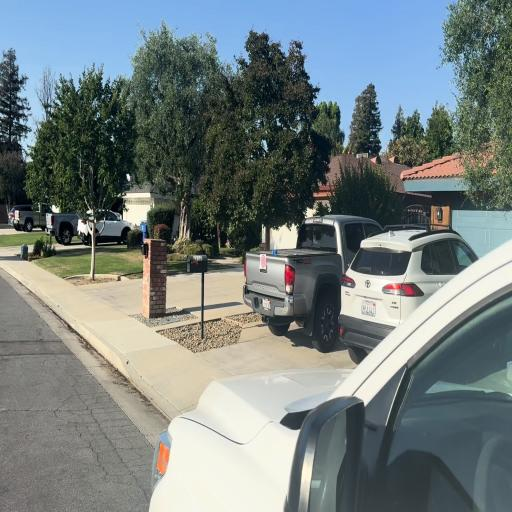bullseye: (260, 254, 266, 270)
